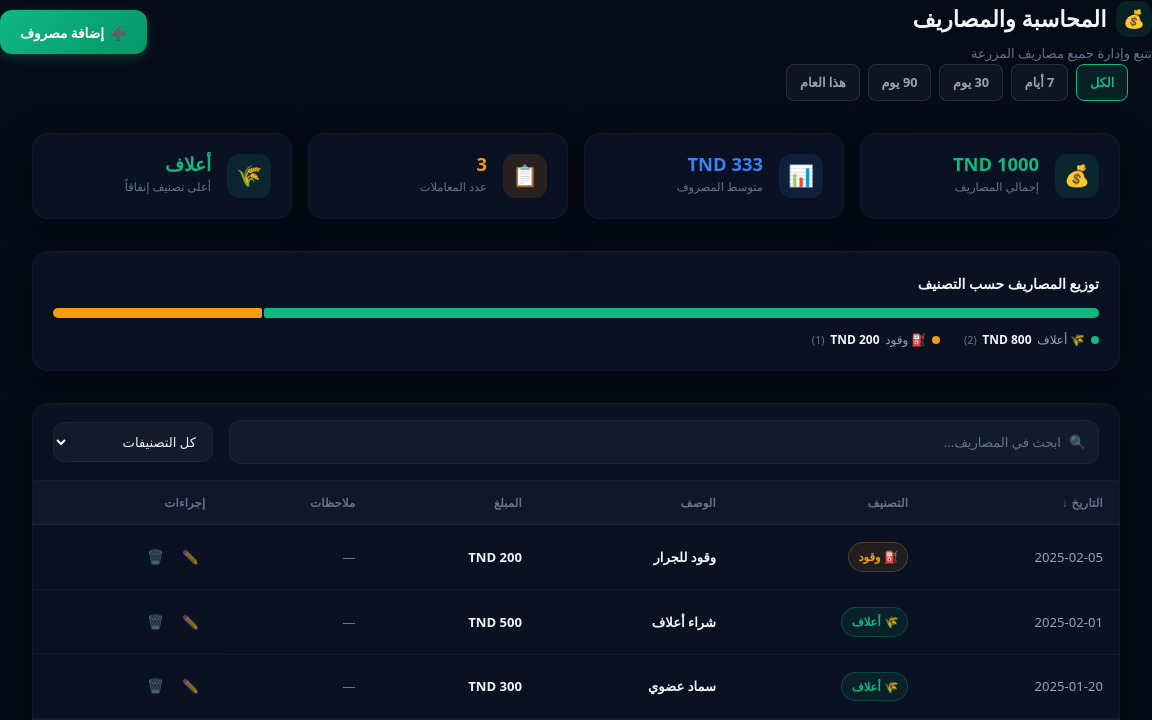
ClientExpenses › filters expenses by search query
In the field with placeholder "ابحث في المصاريف...": x=652, y=442 [242, 421, 1061, 463], type "وقود"
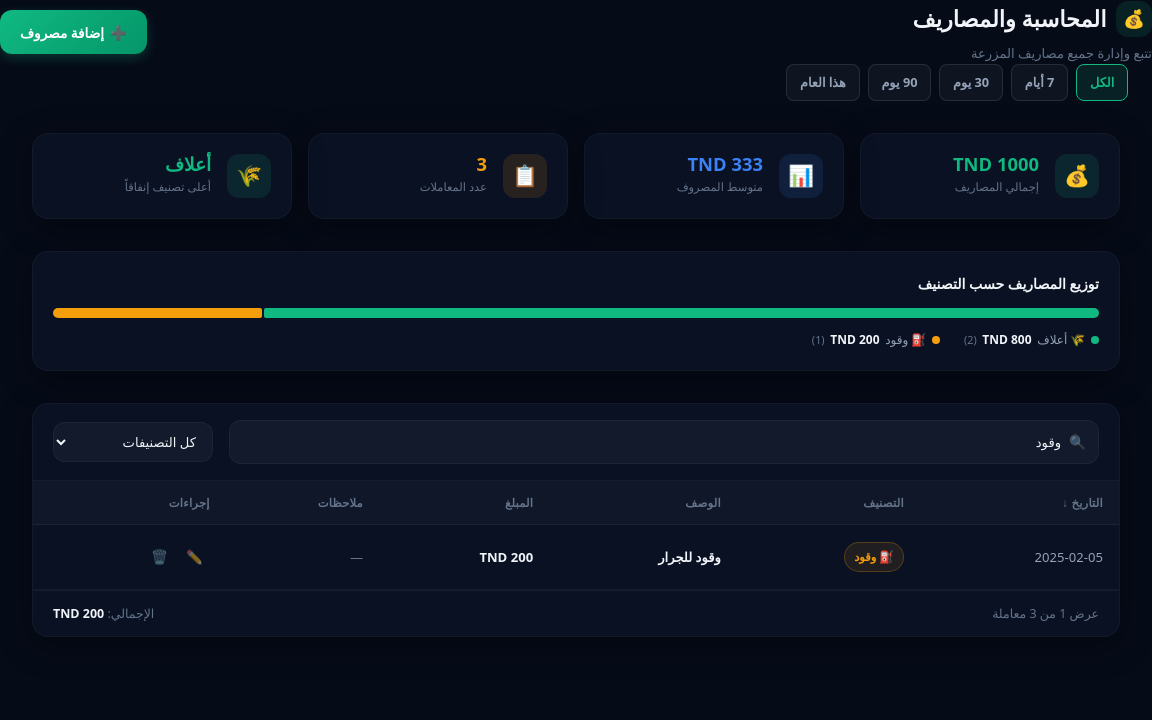
expect the text "وقود للجرار" is shown: met, box [549, 525, 737, 590]
expect the text "شراء أعلاف" is gone: met
